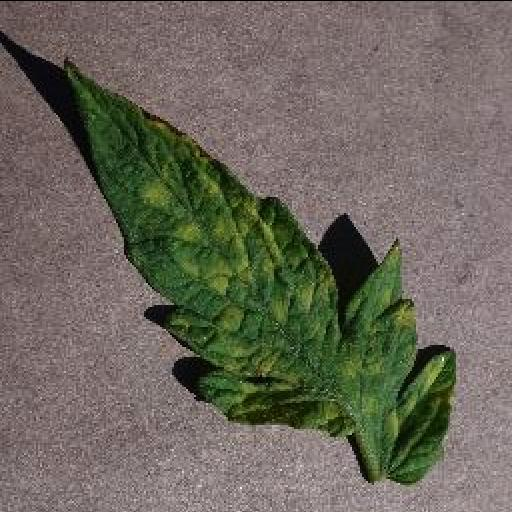disease_tomato: (64, 56, 458, 482)
